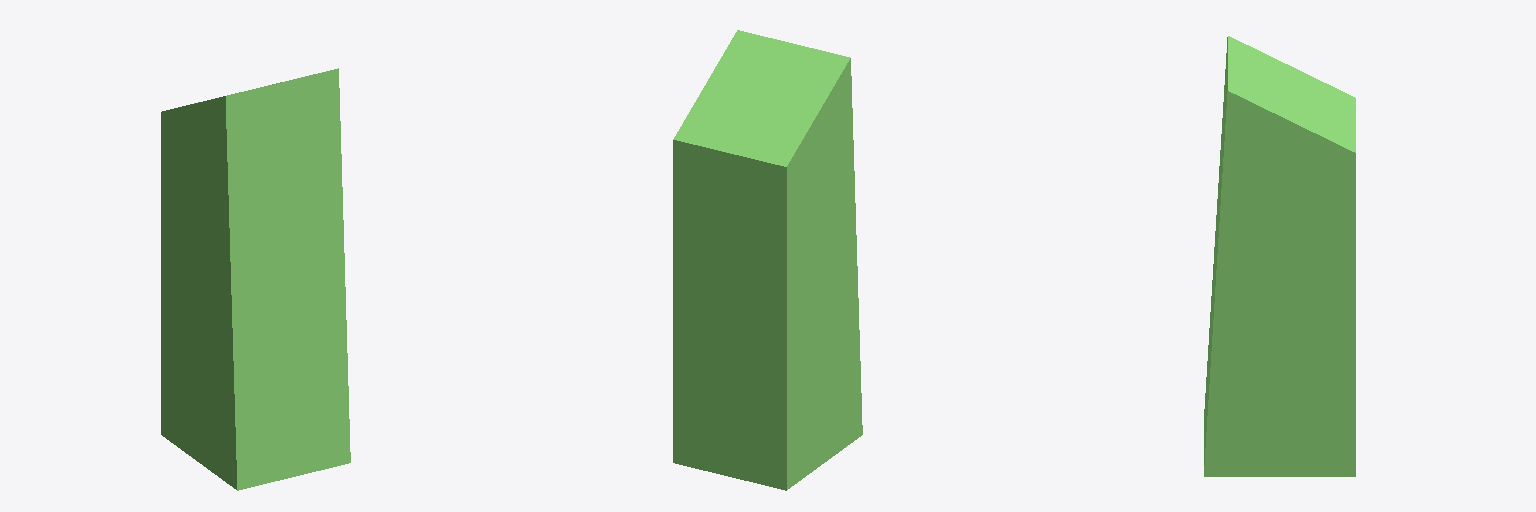
3 views of the same model, side by side, from view 1: azimuth 30°, elevation 25°; view 2: azimuth 150°, elevation 25°; view 3: azimuth 270°, elevation 25° (orthographic).
Parts seen in each view (by area): view 1: Cube.001_Cube.000; view 2: Cube.001_Cube.000; view 3: Cube.001_Cube.000.
Part boxes in pixels (bbox=[...]): Cube.001_Cube.000: bbox=[161, 68, 350, 490]; Cube.001_Cube.000: bbox=[673, 30, 862, 490]; Cube.001_Cube.000: bbox=[1204, 36, 1355, 476].
Size of the model in its own units: 0.6162 by 2 by 0.7176.
1 materials, 1 textured.